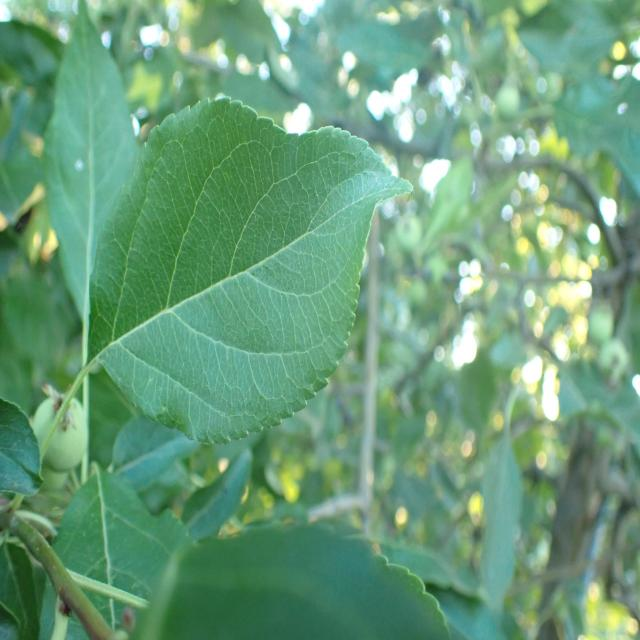healthy: (89, 95, 413, 445), (129, 517, 454, 640), (44, 1, 138, 324), (50, 467, 191, 634), (0, 396, 44, 496)
